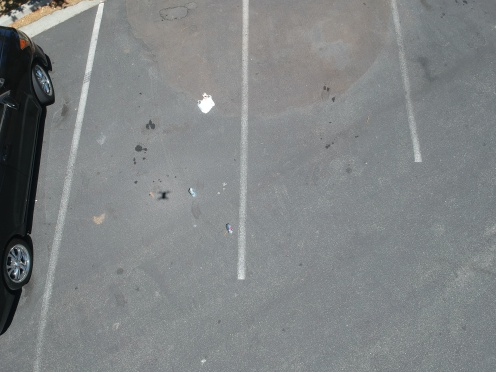bottle: (186, 186, 199, 200)
can: (223, 221, 235, 236)
plastic bag: (193, 90, 215, 114)
